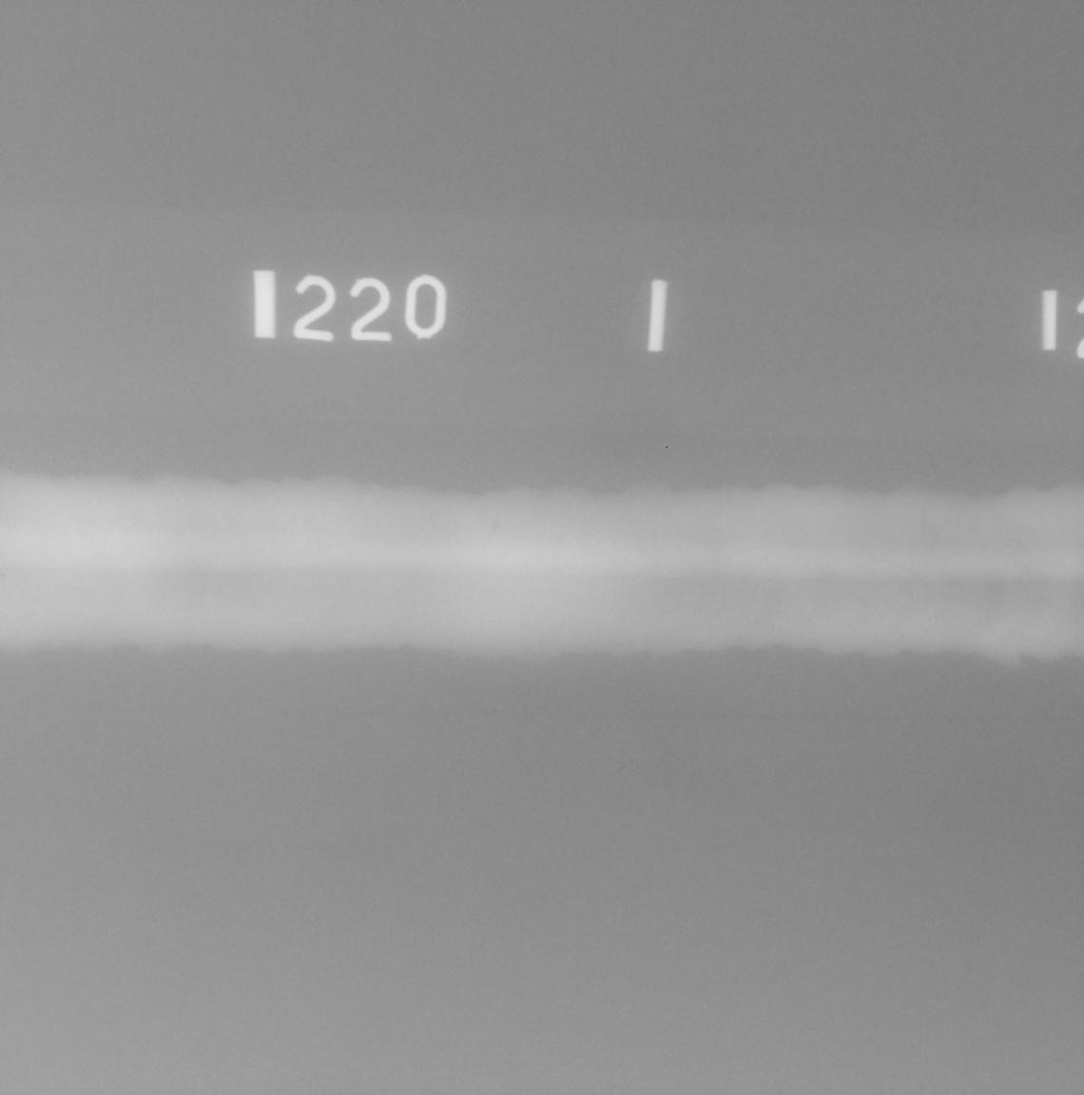Pore/Porosity: (489, 520, 500, 530), (388, 542, 393, 546), (1, 574, 5, 577)
